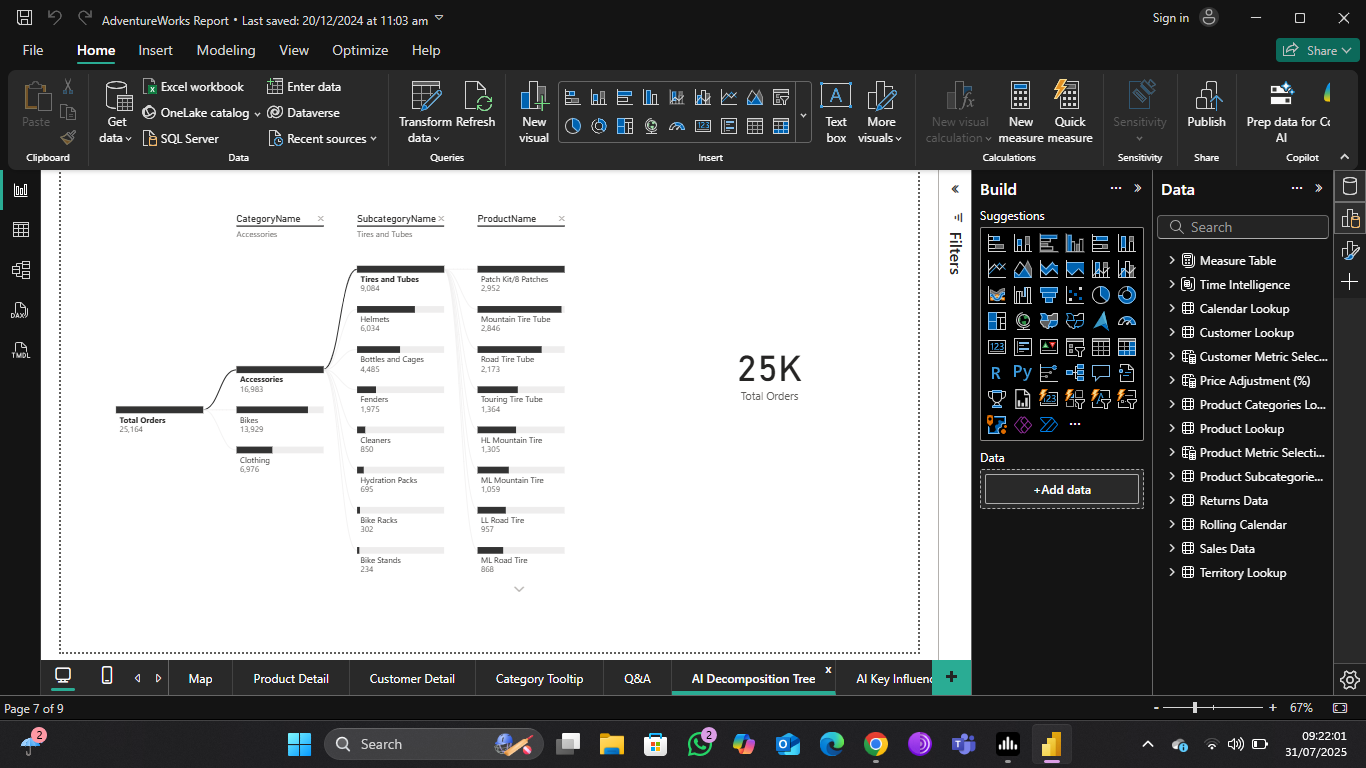

What the dashboard file says about the page in this screenshot:
{"tool":"powerbi","page":{"name":"AI Decomposition Tree","canvas":[1280,720],"ordinal":6},"visuals":[{"type":"decompositionTreeVisual","fields":{"ExplainBy":["Product Categories Lookup.CategoryName","Product Subcategories Lookup.SubcategoryName","Product Lookup.ProductName"],"Analyze":["Measure Table.Total Orders"]},"box":[52.9,47.2,784,598.8],"z":0},{"type":"card","fields":{"Values":["Measure Table.Total Orders"]},"box":[897.3,156.8,321.1,285.2],"z":1000}]}

Visuals, with their boxes on the page's 1280x720 design canvas (x1, y1, x2, y2). These are canvas units, not pixel positions in the 1366x768 screenshot, which may show the page scaled, cropped or inside an application window:
decompositionTreeVisual - Product Categories Lookup.CategoryName x Product Subcategories Lookup.SubcategoryName: crop(53, 47, 837, 646)
card - Measure Table.Total Orders: crop(897, 157, 1218, 442)
